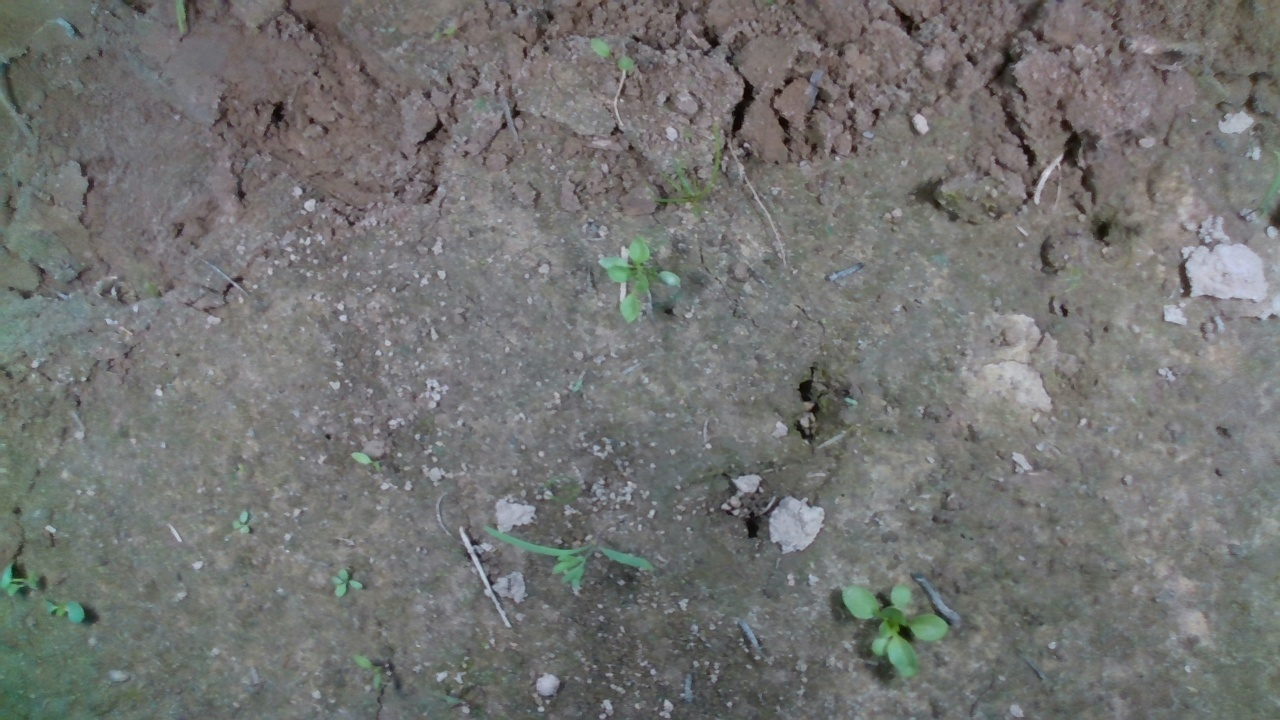weed: (586, 37, 638, 75), (36, 598, 86, 628), (350, 651, 382, 690), (329, 566, 365, 598), (227, 509, 251, 535)
